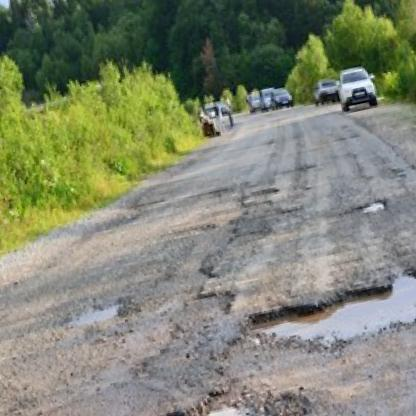pothole: (242, 255, 416, 364), (103, 372, 299, 416), (358, 196, 389, 217)
